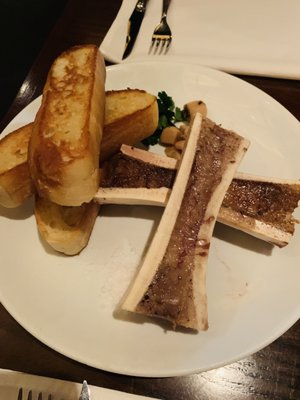sandwich: (98, 0, 139, 65), (123, 0, 149, 61)
soup: (28, 44, 104, 257), (100, 88, 159, 163)
